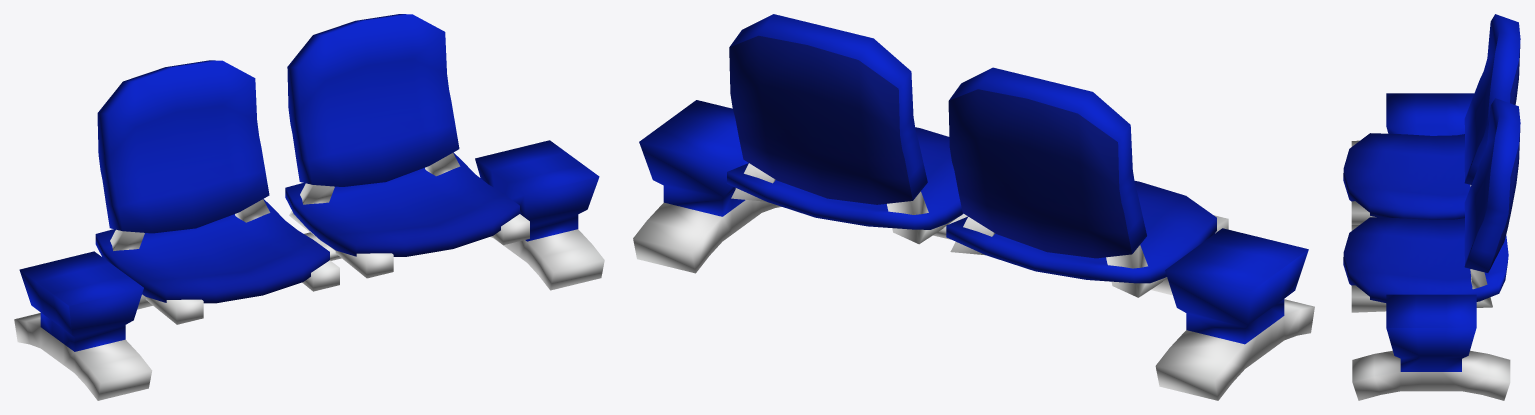
File: CadeirasHospitalar2Lugares 1.fbx
3 views of the same model, side by side, from view 1: azimuth 30°, elevation 25°; view 2: azimuth 150°, elevation 25°; view 3: azimuth 270°, elevation 25° (orthographic). The views are drawn at different scales.
Parts seen in each view (by area): view 1: CadeirasHospitalar2Lugares; view 2: CadeirasHospitalar2Lugares; view 3: CadeirasHospitalar2Lugares.
Boxes of the visible parts, bbox=[...] form: CadeirasHospitalar2Lugares: bbox=[14, 14, 604, 400]; CadeirasHospitalar2Lugares: bbox=[633, 14, 1314, 400]; CadeirasHospitalar2Lugares: bbox=[1343, 14, 1520, 400].
Size of the model in its own units: 179 by 76.92 by 57.03.
Materials: 1 (1 with a texture image).
